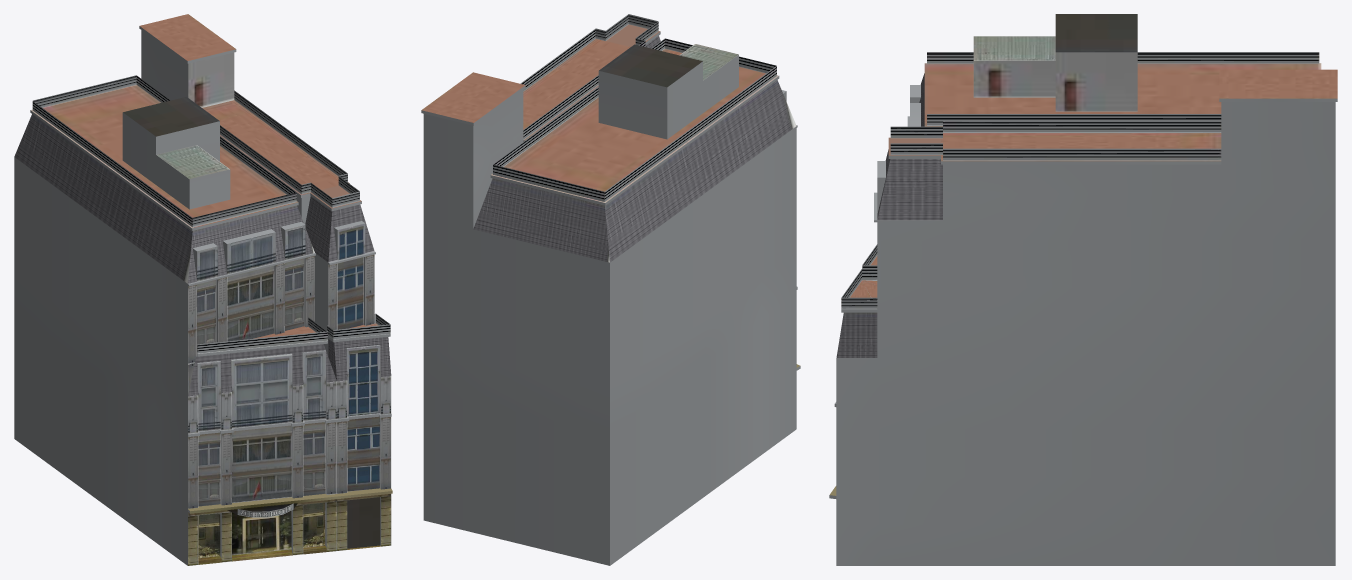
3 views of the same model, side by side, from view 1: azimuth 30°, elevation 25°; view 2: azimuth 150°, elevation 25°; view 3: azimuth 270°, elevation 25° (orthographic). The views are drawn at different scales.
Visible parts, largest first — view 1: HN152_Zephyr_Suites_Boutique_Hotel; view 2: HN152_Zephyr_Suites_Boutique_Hotel; view 3: HN152_Zephyr_Suites_Boutique_Hotel.
Boxes of the visible parts, bbox=[...] form: HN152_Zephyr_Suites_Boutique_Hotel: bbox=[14, 14, 392, 565]; HN152_Zephyr_Suites_Boutique_Hotel: bbox=[421, 14, 800, 565]; HN152_Zephyr_Suites_Boutique_Hotel: bbox=[829, 14, 1337, 565].
Bounding box in the file's own units: 15.18 × 31.55 × 31.04.
Materials: 1 (1 with a texture image).
